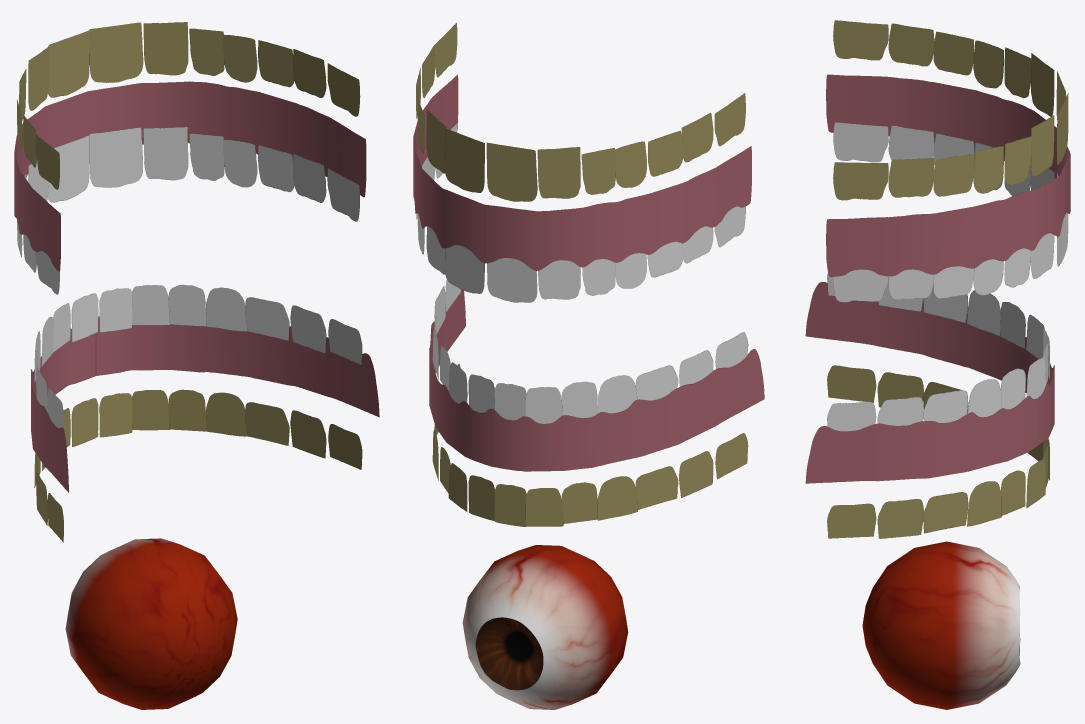
Rendered from 3Dmodel_Head_Human_Teeth&Eyes.fbx.
3 views of the same model, side by side, from view 1: azimuth 30°, elevation 25°; view 2: azimuth 150°, elevation 25°; view 3: azimuth 270°, elevation 25° (orthographic). The views are drawn at different scales.
Visible parts, largest first — view 1: Head_Human_Teeth_Top, Head_Human_Teeth_Bottom, Head_Human_Eye, Head_Human_Teeth_Top.001, Head_Human_Teeth_Bottom.001; view 2: Head_Human_Teeth_Top, Head_Human_Teeth_Bottom, Head_Human_Eye, Head_Human_Teeth_Top.001, Head_Human_Teeth_Bottom.001; view 3: Head_Human_Teeth_Top, Head_Human_Teeth_Bottom, Head_Human_Eye, Head_Human_Teeth_Top.001, Head_Human_Teeth_Bottom.001.
Part boxes in pixels (left/top/right/bottom): Head_Human_Teeth_Top: left=14, top=81, right=366, bottom=294; Head_Human_Teeth_Bottom: left=31, top=284, right=379, bottom=492; Head_Human_Eye: left=65, top=538, right=237, bottom=709; Head_Human_Teeth_Top.001: left=17, top=22, right=360, bottom=189; Head_Human_Teeth_Bottom.001: left=34, top=389, right=362, bottom=542; Head_Human_Teeth_Top: left=413, top=74, right=751, bottom=302; Head_Human_Teeth_Bottom: left=429, top=280, right=764, bottom=471; Head_Human_Eye: left=462, top=545, right=628, bottom=709; Head_Human_Teeth_Top.001: left=416, top=23, right=745, bottom=201; Head_Human_Teeth_Bottom.001: left=432, top=363, right=748, bottom=526; Head_Human_Teeth_Top: left=826, top=74, right=1070, bottom=302; Head_Human_Teeth_Bottom: left=805, top=273, right=1054, bottom=483; Head_Human_Eye: left=862, top=541, right=1020, bottom=709; Head_Human_Teeth_Top.001: left=833, top=20, right=1068, bottom=200; Head_Human_Teeth_Bottom.001: left=827, top=365, right=1049, bottom=538.
Size of the model in its own units: 3.12 by 2.42 by 6.05.
